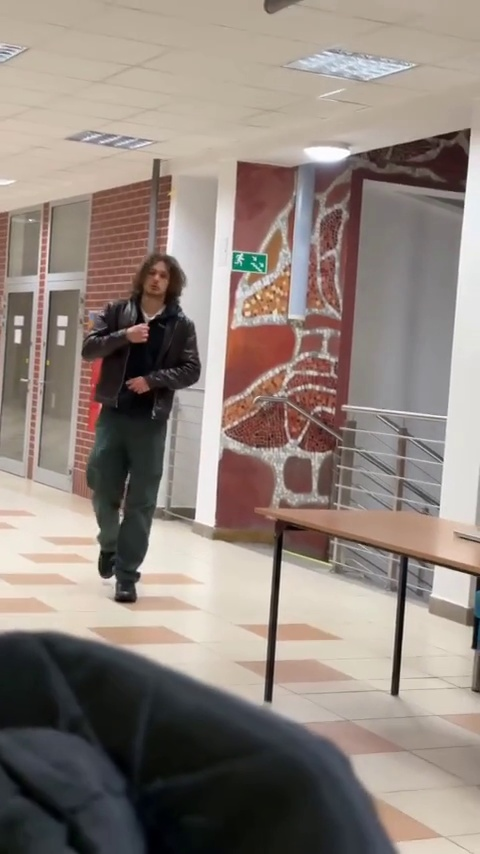no vest: (78, 255, 205, 604)
